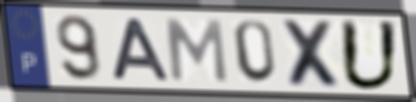0: (230, 19, 278, 86)
9: (53, 13, 104, 82)
A: (109, 16, 173, 82)
M: (163, 17, 230, 85)
U: (337, 17, 402, 93)
X: (278, 17, 347, 91)
